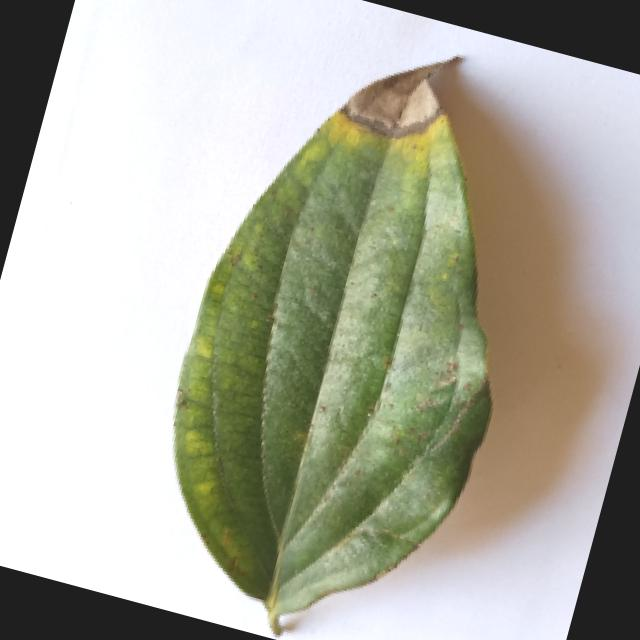footrot: (123, 27, 576, 640)
